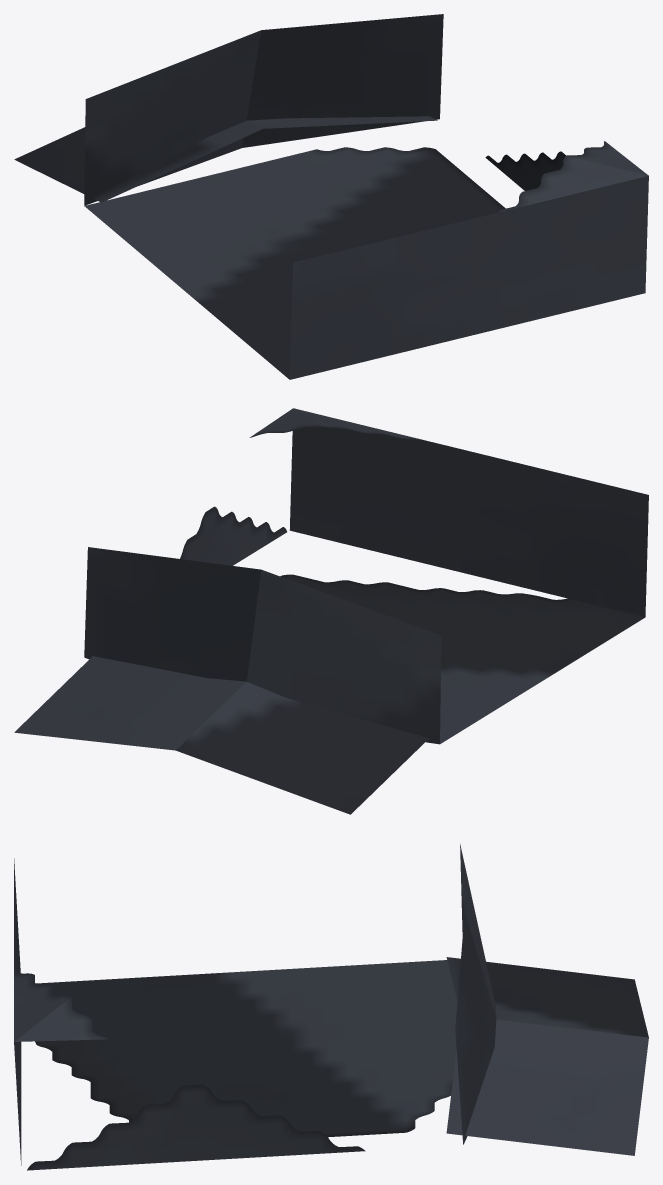
Rendered from r_police_h.obj.
3 views of the same model, one above another, from view 1: azimuth 30°, elevation 25°; view 2: azimuth 150°, elevation 25°; view 3: azimuth 270°, elevation 25° (orthographic). The views are drawn at different scales.
Visible parts, largest first — view 1: mesh; view 2: mesh; view 3: mesh.
Boxes of the visible parts, bbox=[...] form: mesh: bbox=[14, 14, 648, 379]; mesh: bbox=[14, 408, 648, 814]; mesh: bbox=[14, 844, 648, 1170].
Size of the model in its own units: 0.5813 by 0.2584 by 0.8362.
